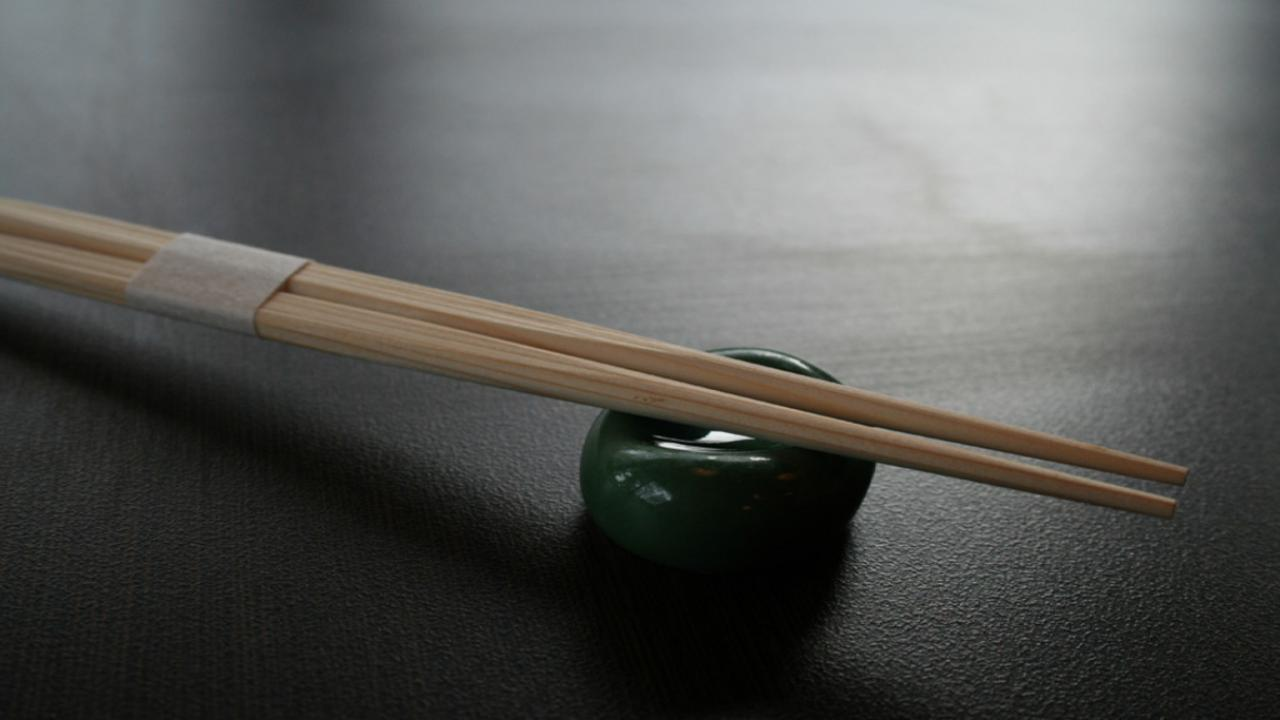chopstick: (0, 192, 1179, 522)
